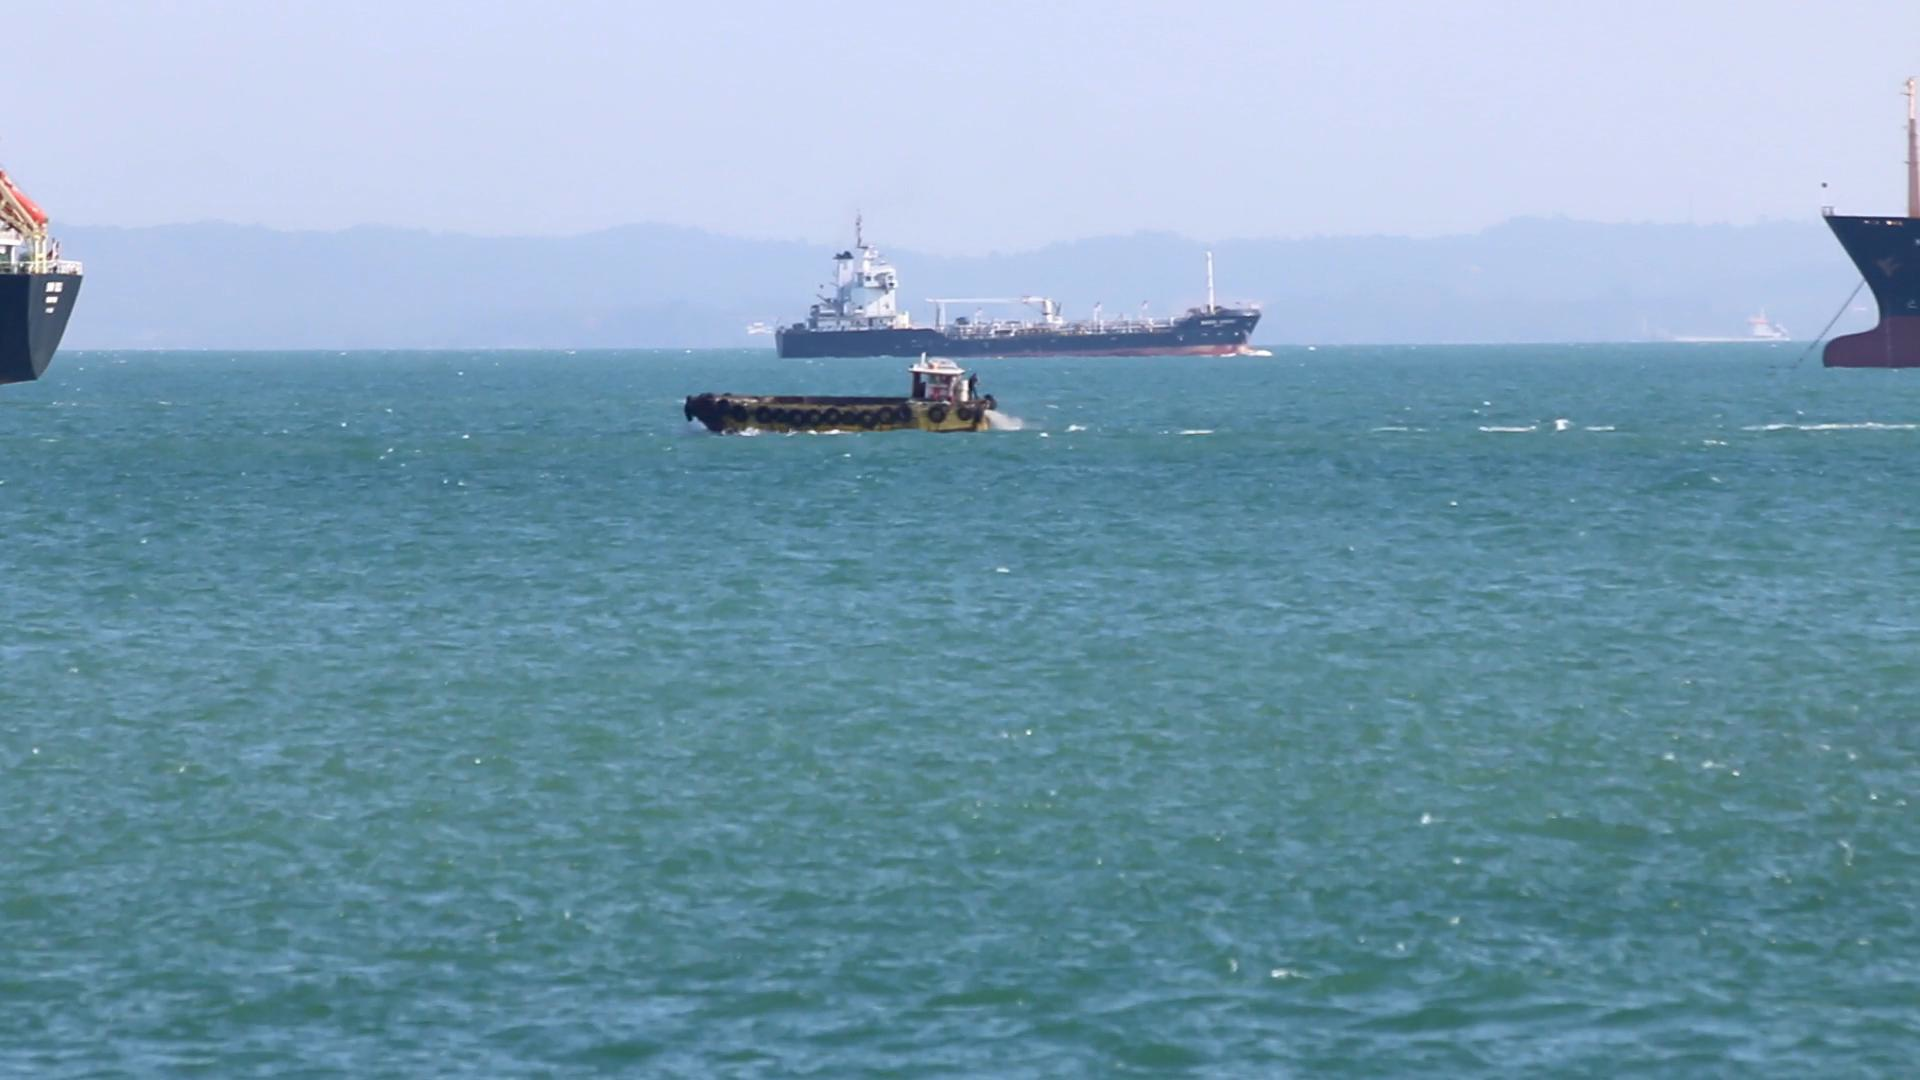Container Ship: (773, 204, 1261, 357), (1820, 75, 1920, 369), (0, 169, 82, 384)
